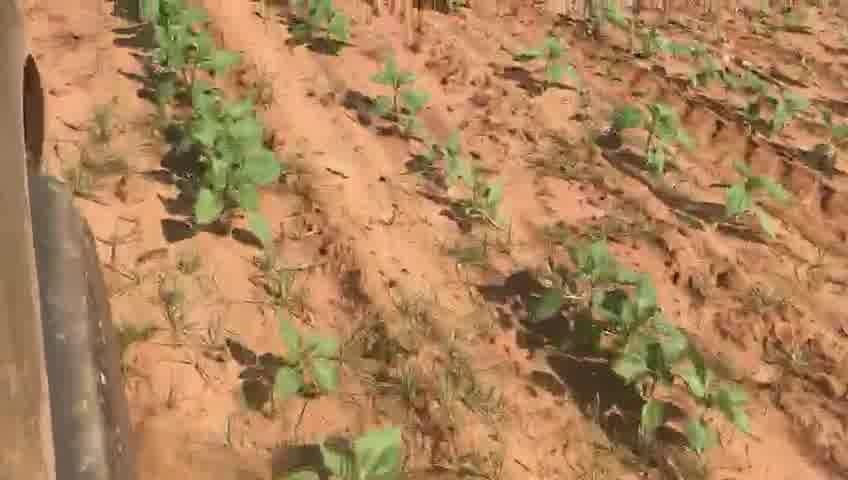sunflower: (589, 280, 704, 415), (522, 234, 646, 335), (634, 369, 770, 450), (185, 154, 284, 251), (263, 311, 343, 409), (173, 88, 269, 163), (611, 94, 696, 173), (288, 428, 411, 474), (147, 36, 245, 92), (444, 131, 505, 216), (719, 163, 787, 231), (509, 33, 583, 93), (374, 53, 425, 139), (756, 89, 819, 144), (136, 4, 209, 50), (291, 6, 353, 53), (704, 60, 760, 111), (649, 26, 708, 72)
